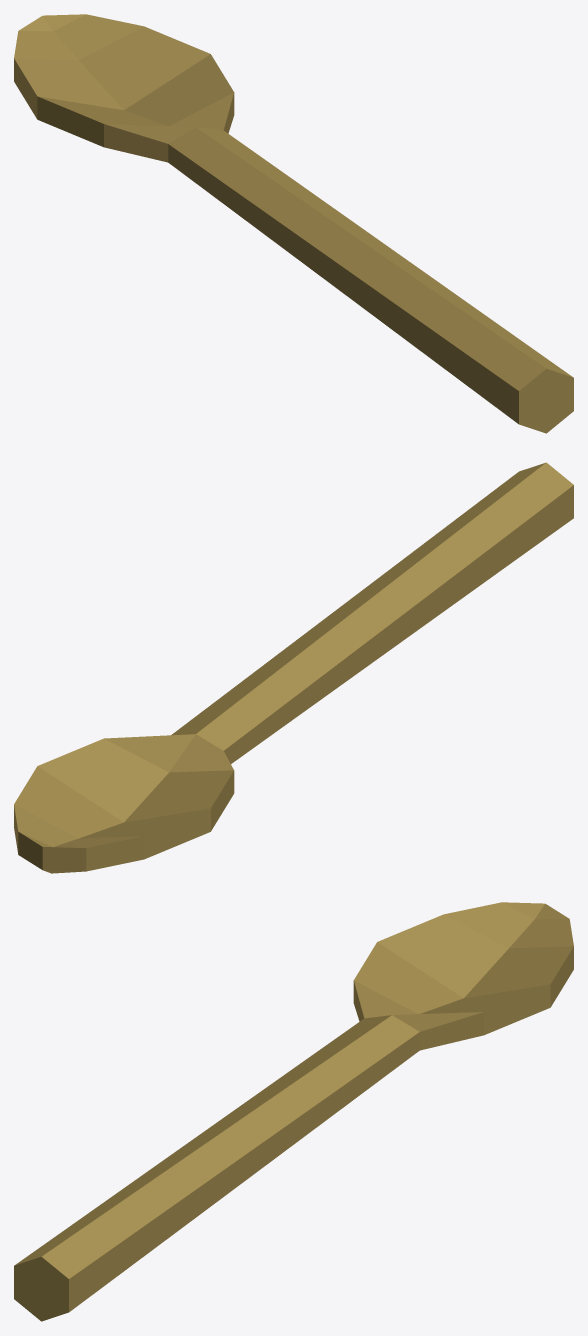
Rendered from Spoon.glb.
3 views of the same model, one above another, from view 1: azimuth 30°, elevation 25°; view 2: azimuth 150°, elevation 25°; view 3: azimuth 330°, elevation 25° (orthographic).
Parts seen in each view (by area): view 1: Spoon.001; view 2: Spoon.001; view 3: Spoon.001.
Part boxes in pixels (left/top/right/bottom): Spoon.001: left=14, top=14, right=573, bottom=433; Spoon.001: left=14, top=462, right=573, bottom=873; Spoon.001: left=14, top=902, right=573, bottom=1321.
Bounding box in the file's own units: 0.0622 × 0.026 × 0.3128.
Materials: 1 (1 with a texture image).
